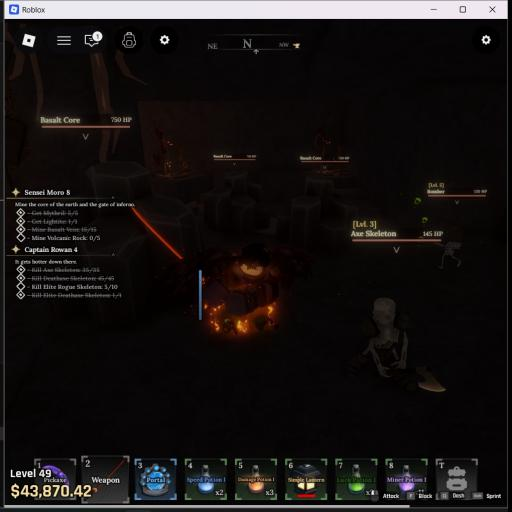player: (149, 243, 329, 341)
rock: (79, 162, 203, 325), (277, 177, 357, 252), (205, 171, 269, 234)
